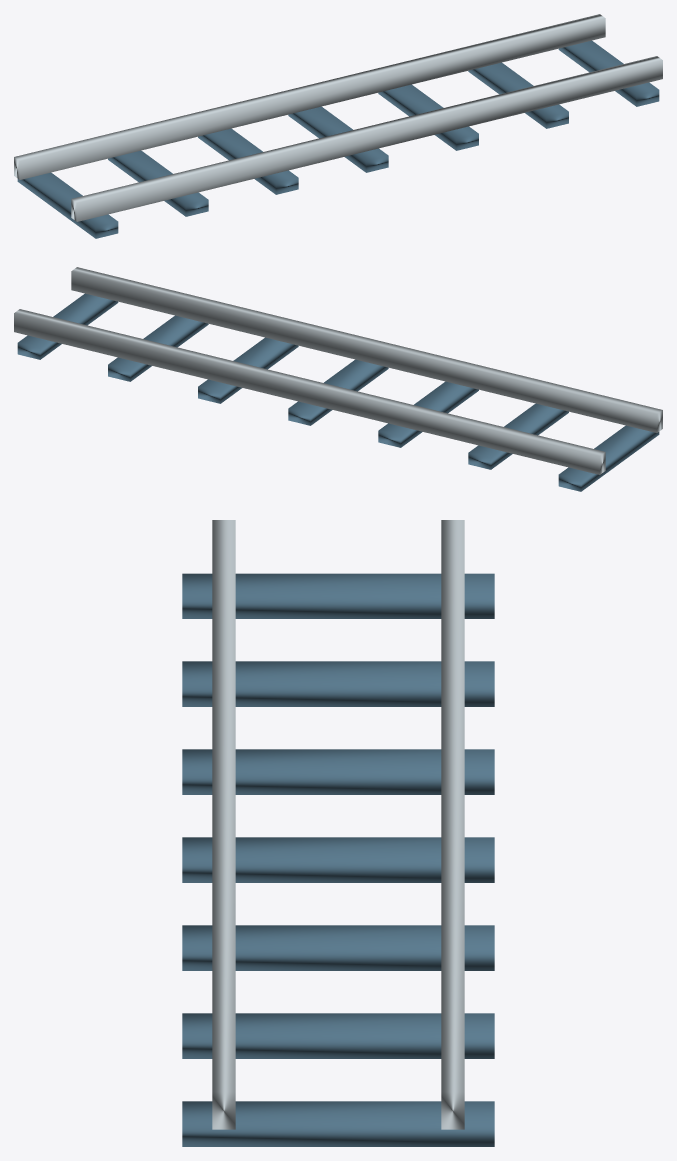
File: track-rail.glb
3 renders of one model, top to bottom at view 1: azimuth 30°, elevation 25°; view 2: azimuth 150°, elevation 25°; view 3: azimuth 270°, elevation 25°, orthographic. The views are drawn at different scales.
Parts seen in each view (by area): view 1: rail (×2), support (×7); view 2: rail (×2), support (×7); view 3: support (×7), rail (×2).
Boxes of the visible parts, x1=… form: rail (×2): x1=14, y1=14, x2=662, y2=221; support (×7): x1=17, y1=40, x2=659, y2=238; rail (×2): x1=14, y1=267, x2=662, y2=474; support (×7): x1=17, y1=293, x2=659, y2=491; support (×7): x1=182, y1=573, x2=494, y2=1146; rail (×2): x1=212, y1=520, x2=464, y2=1129.
Bounding box in the file's own units: 2.6 × 0.14 × 0.6.
